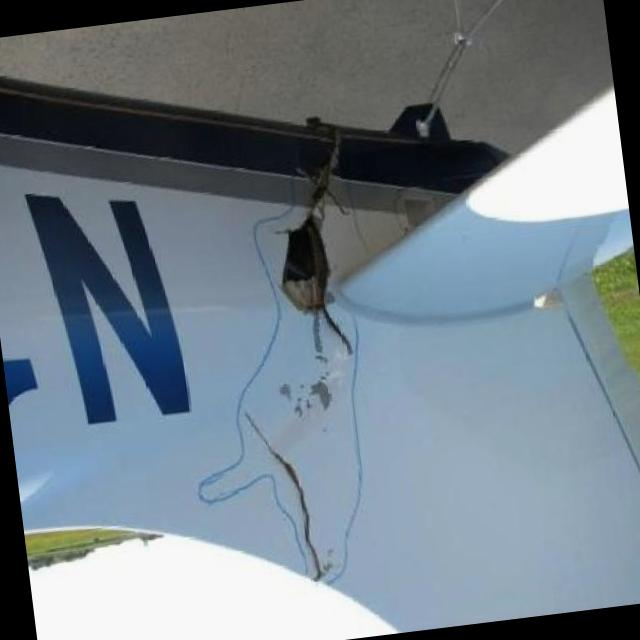crack: (239, 402, 326, 589)
